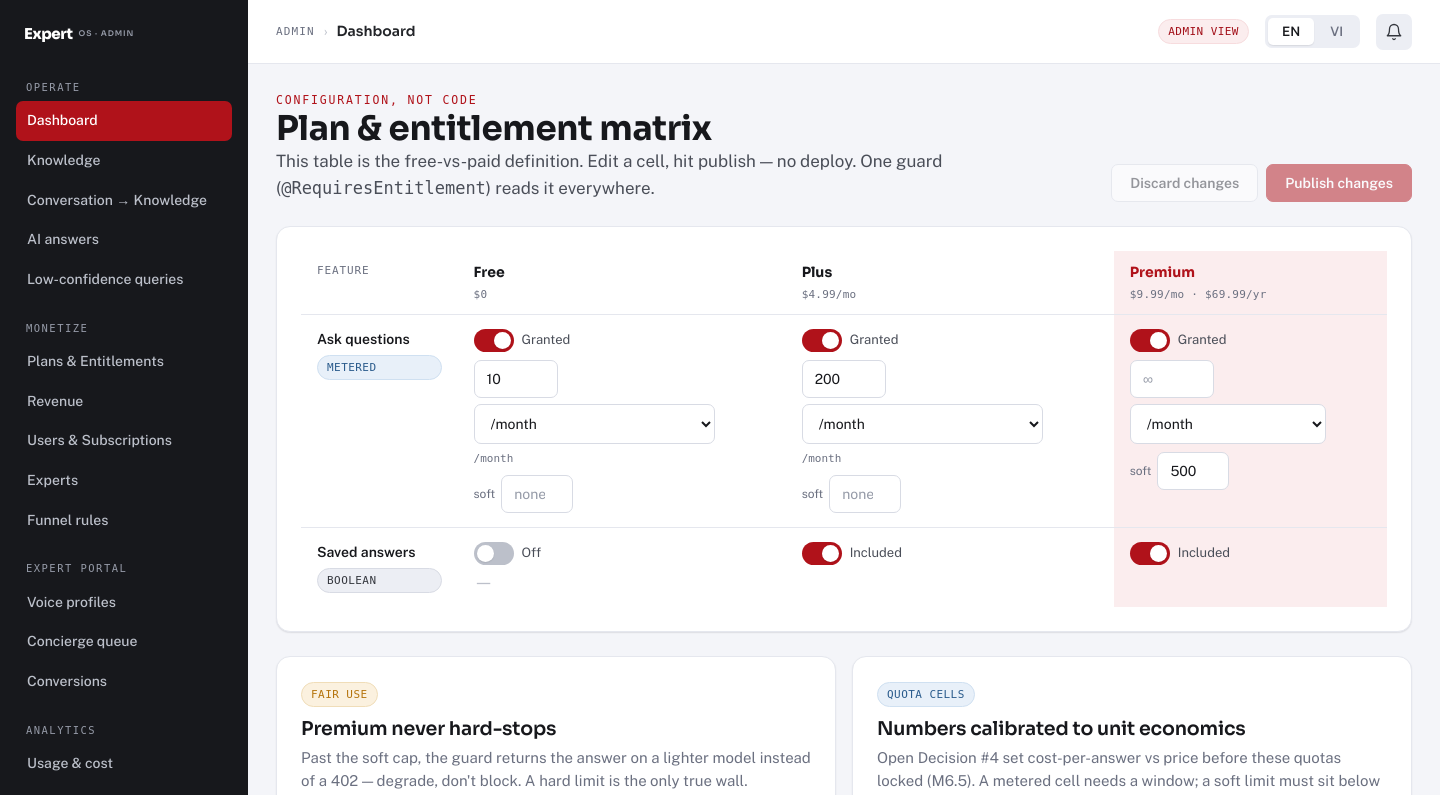
Test case: EntitlementsPage — staged publish › publishes a dirty cell via the per-cell PATCH and shows the published note
The image size is (1440, 795).
Expected: the text "Ask questions" is shown, [317,331,410,347]
Click the checkbox labelled "Off" at (507, 554), box [474,542,541,565]
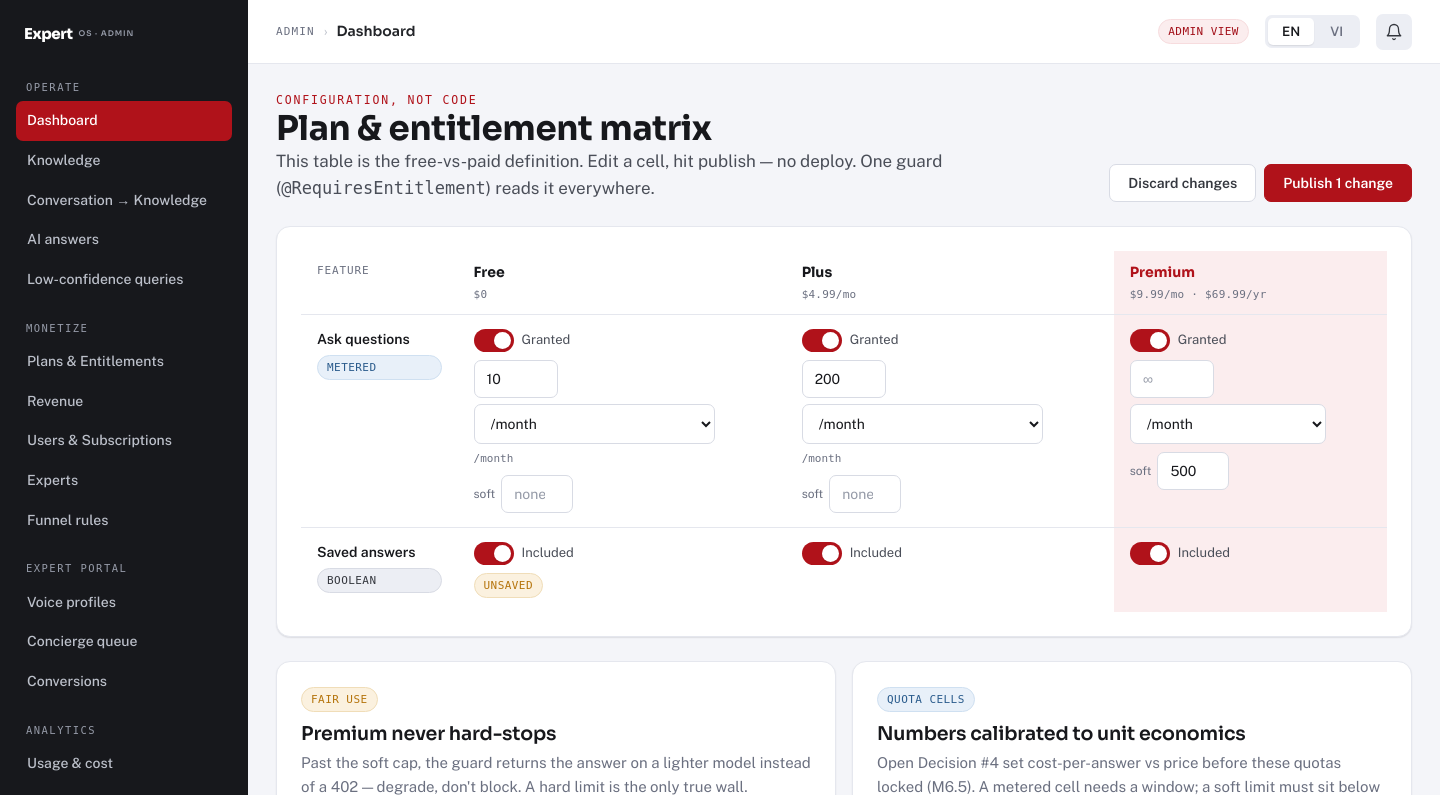
Click the button "Publish 1 change" at (1338, 183), box [1264,164,1412,202]
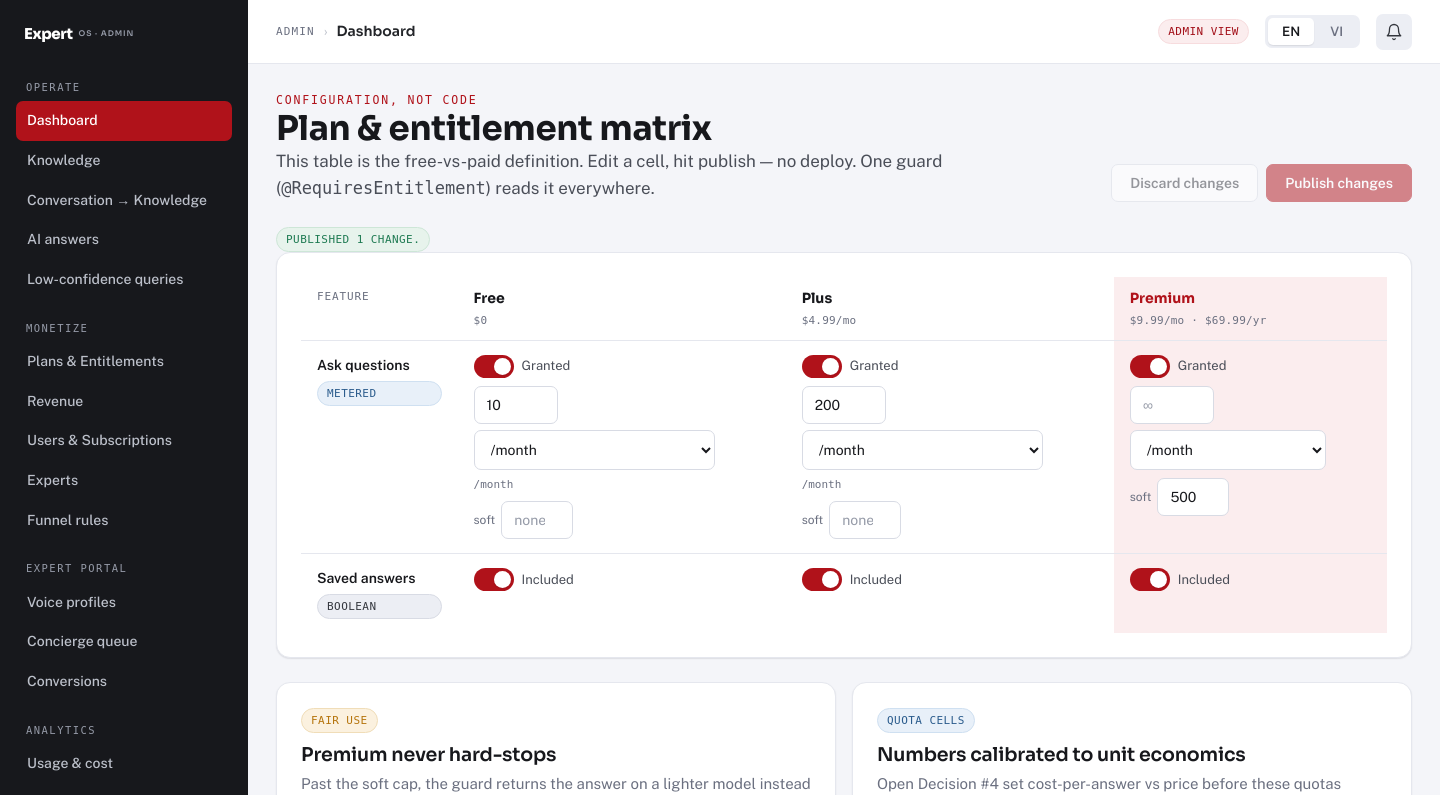
Result: the text "Published 1 change." is shown at [276,227,430,252]
